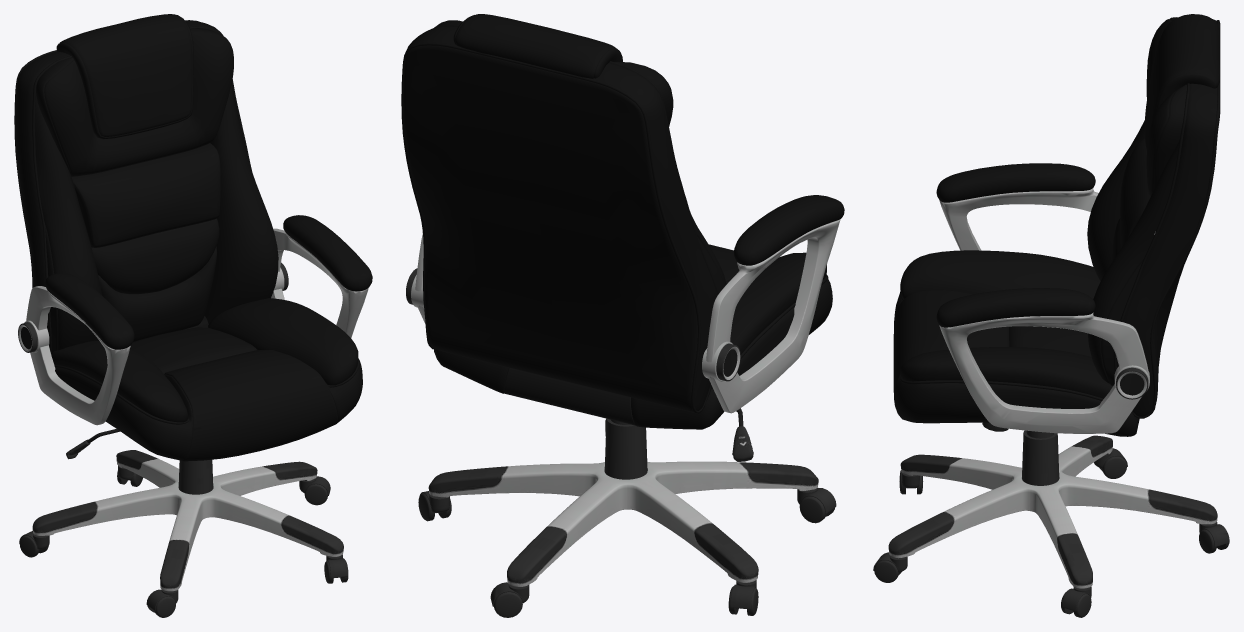
3 views of the same model, side by side, from view 1: azimuth 30°, elevation 25°; view 2: azimuth 150°, elevation 25°; view 3: azimuth 270°, elevation 25° (orthographic). The views are drawn at different scales.
Visible parts, largest first — view 1: RootNode; view 2: RootNode; view 3: RootNode.
Part boxes in pixels (bbox=[...]): RootNode: bbox=[14, 14, 372, 617]; RootNode: bbox=[401, 14, 844, 617]; RootNode: bbox=[873, 14, 1229, 617].
Bounding box in the file's own units: 0.6969 × 1.08 × 0.6892.
1 material, 1 textured.
